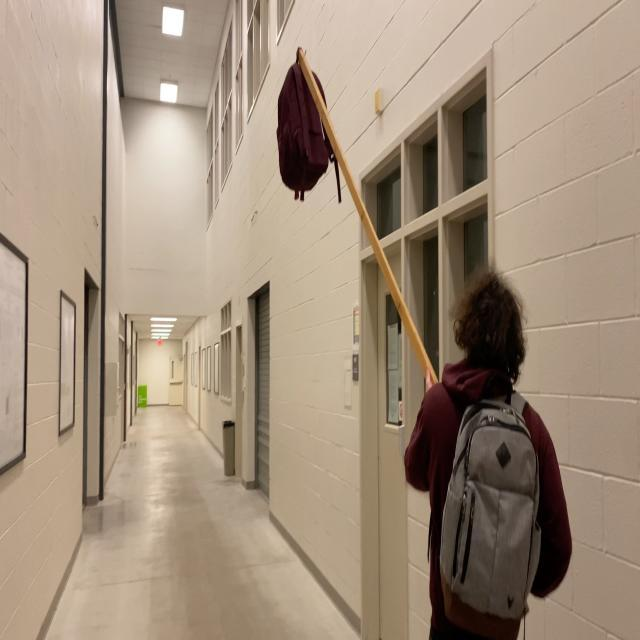Backpacks: (276, 61, 330, 195)
